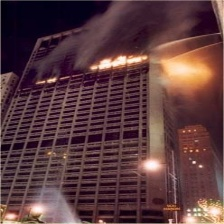fire: (87, 55, 152, 70)
smoke: (34, 1, 217, 56)
